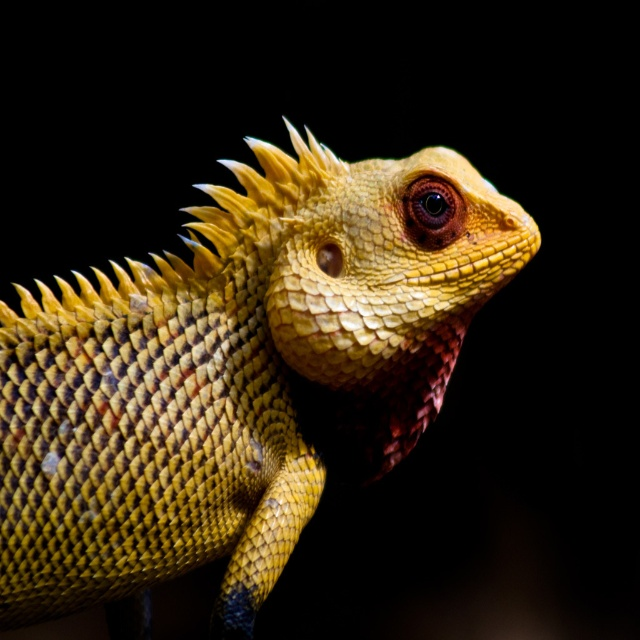Lizard: (10, 96, 532, 640)
